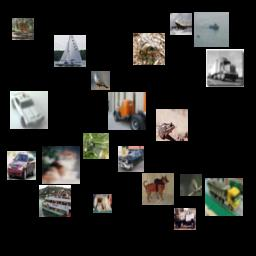airplane: (170, 13, 192, 35)
automobile: (10, 91, 48, 129), (7, 151, 36, 180), (118, 146, 144, 172)
bird: (180, 174, 202, 196), (91, 71, 110, 90)
cat: (42, 146, 80, 184)
deer: (83, 133, 109, 159), (12, 18, 34, 40)
dog: (142, 173, 174, 205), (93, 194, 112, 213)
frog: (156, 109, 188, 141), (133, 33, 165, 65)
ship: (194, 12, 229, 47), (54, 35, 86, 67), (39, 185, 71, 217)
truck: (206, 49, 244, 87), (108, 92, 146, 130), (205, 178, 243, 216), (174, 208, 196, 230)
